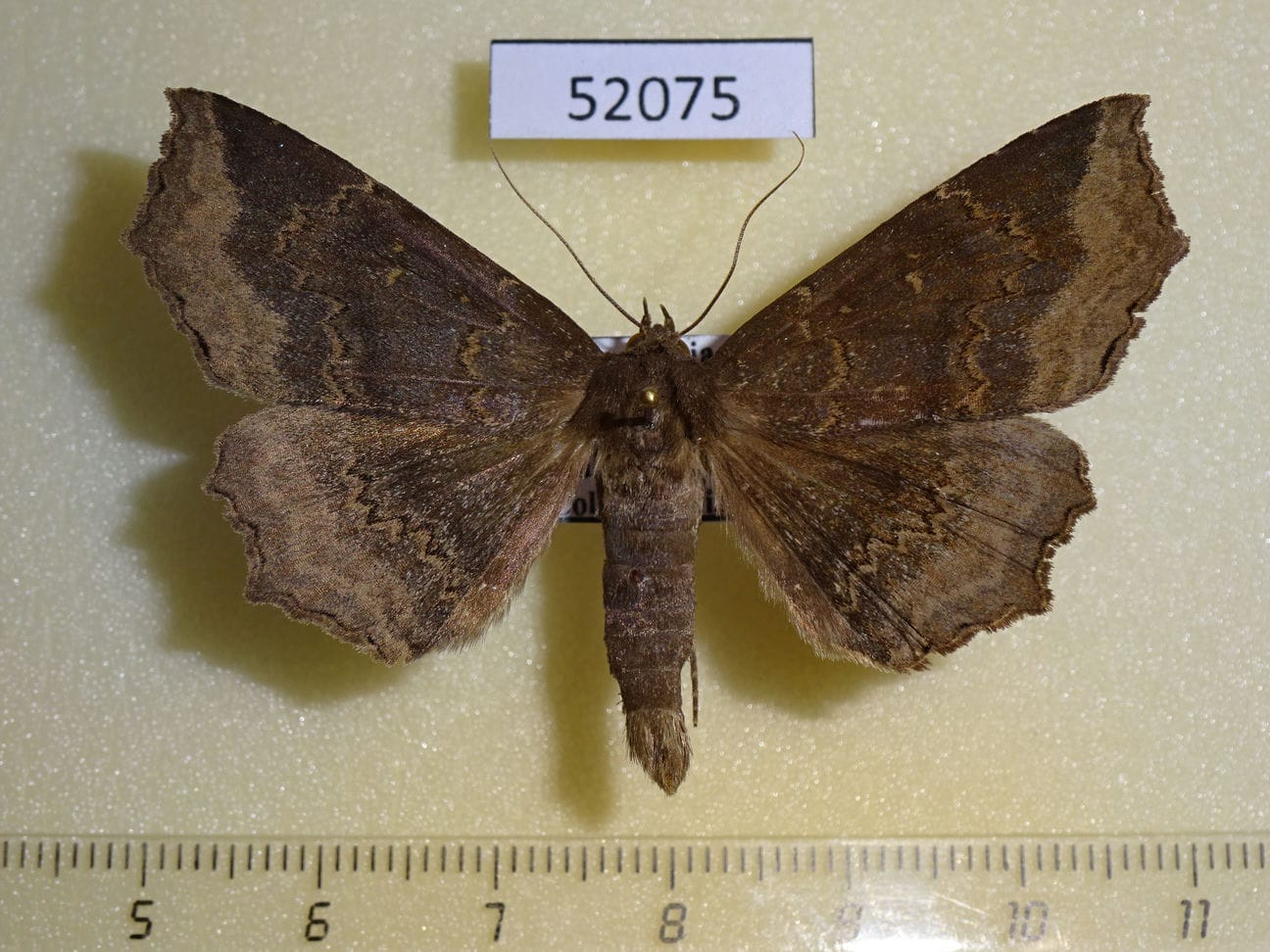Noctuidae: (122, 89, 1198, 799)
